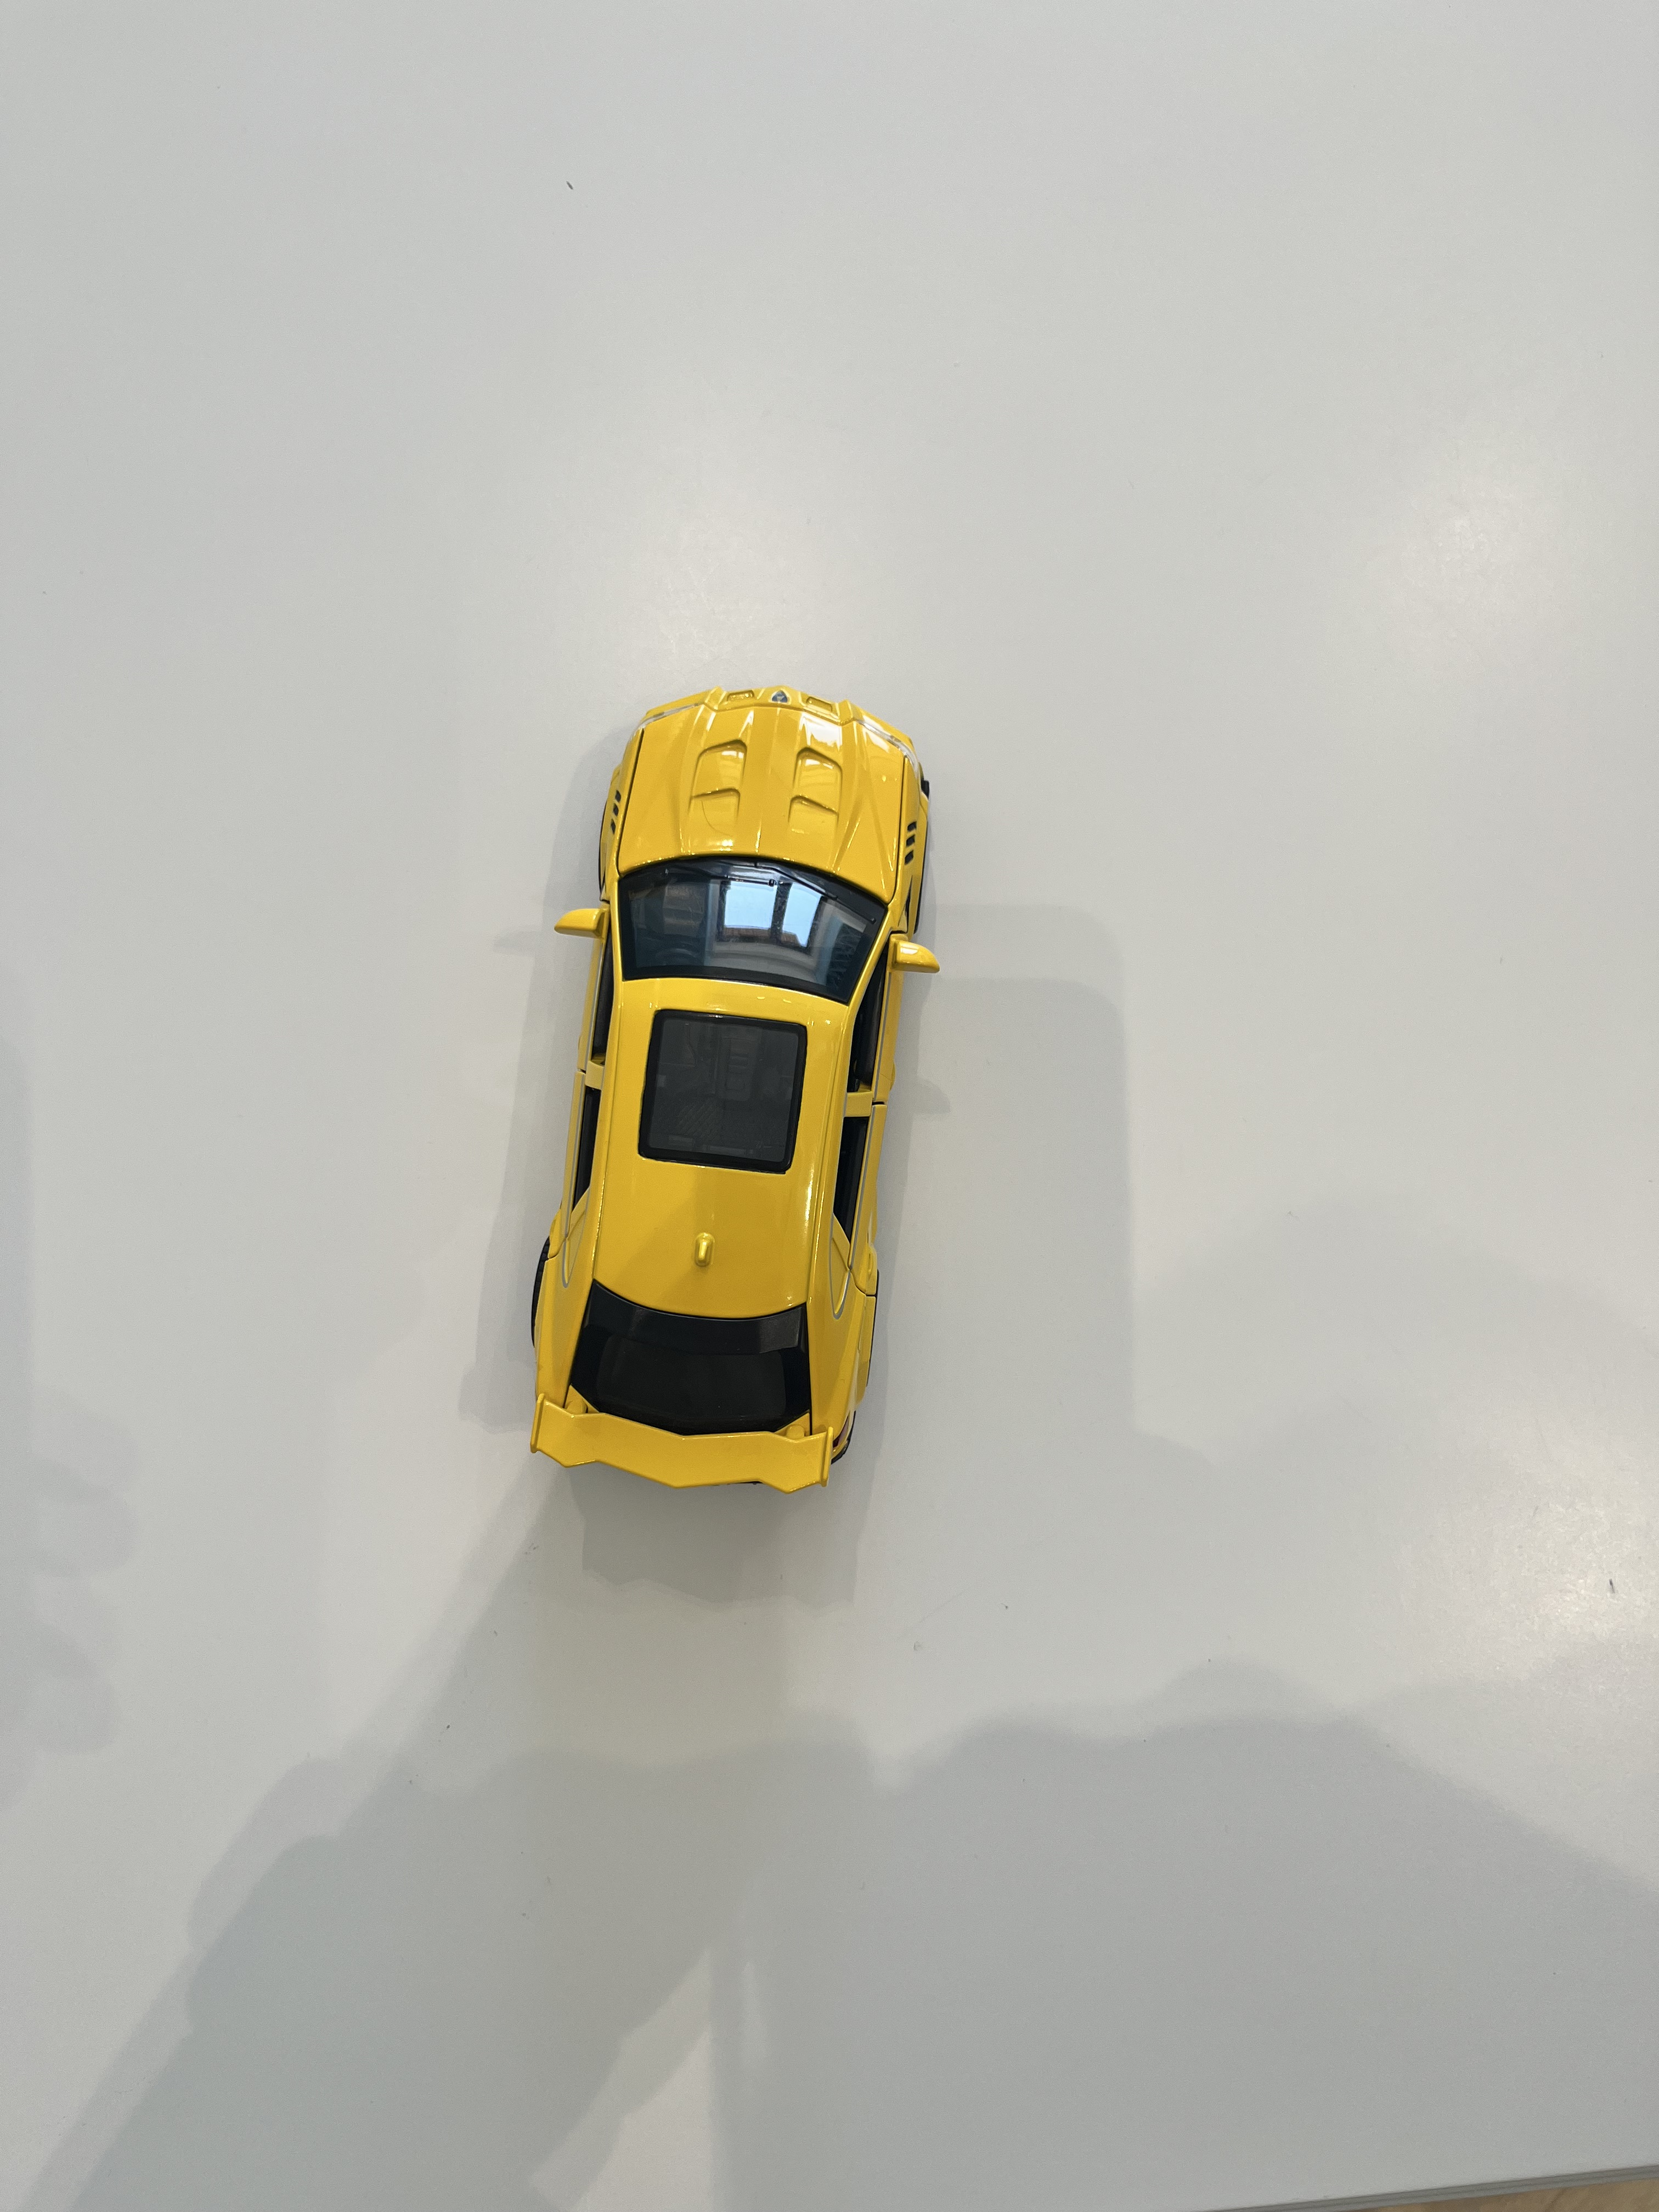lambo: (507, 644, 950, 1526)
